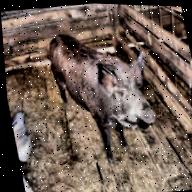boar: (39, 22, 173, 161)
